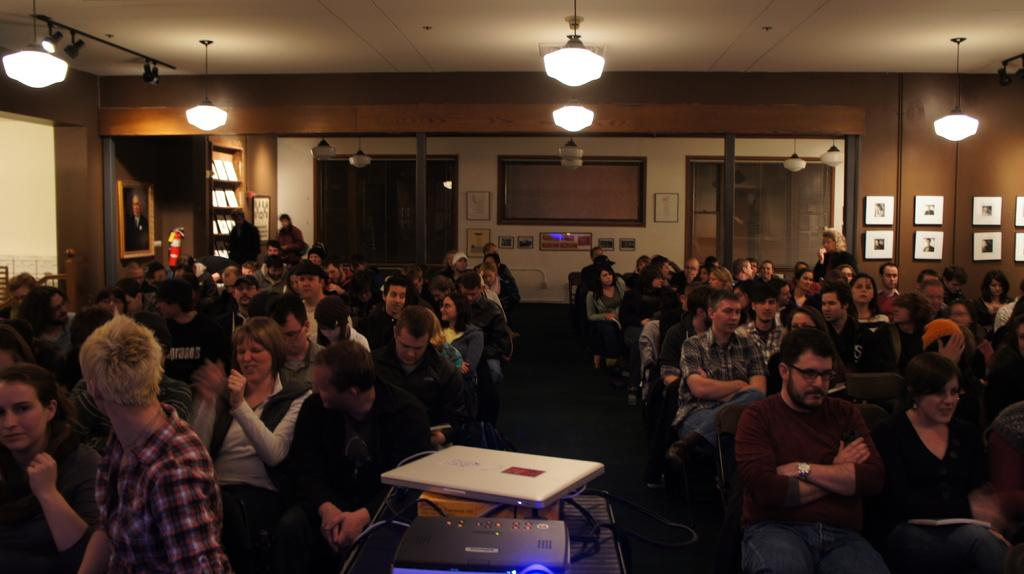Laptop: (381, 445, 604, 509)
